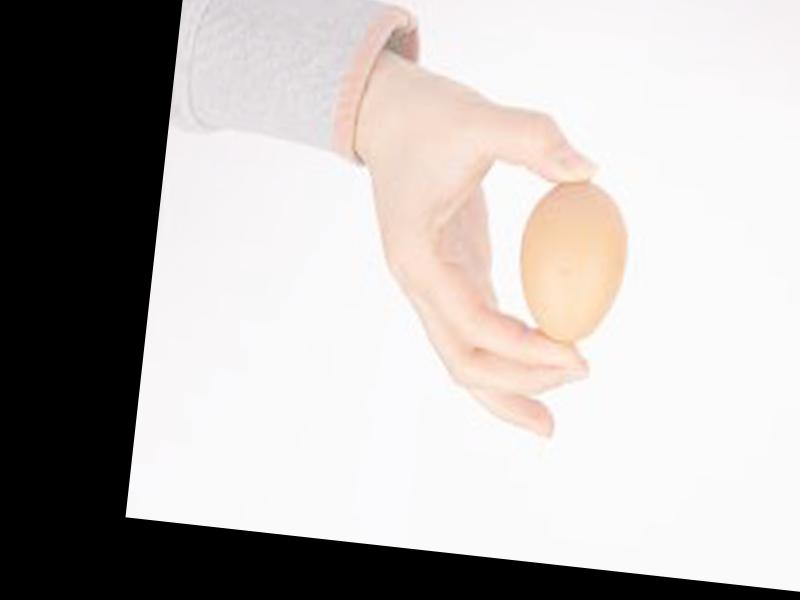Eggs: (513, 179, 633, 352)
